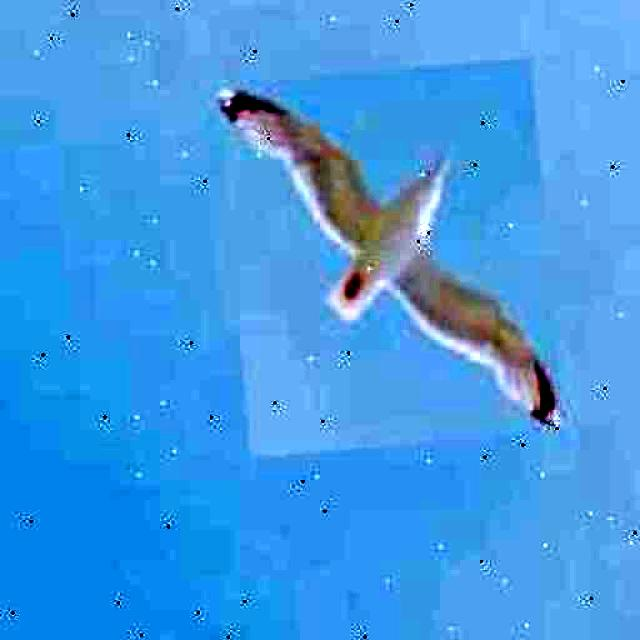airplane: (218, 58, 564, 458)
